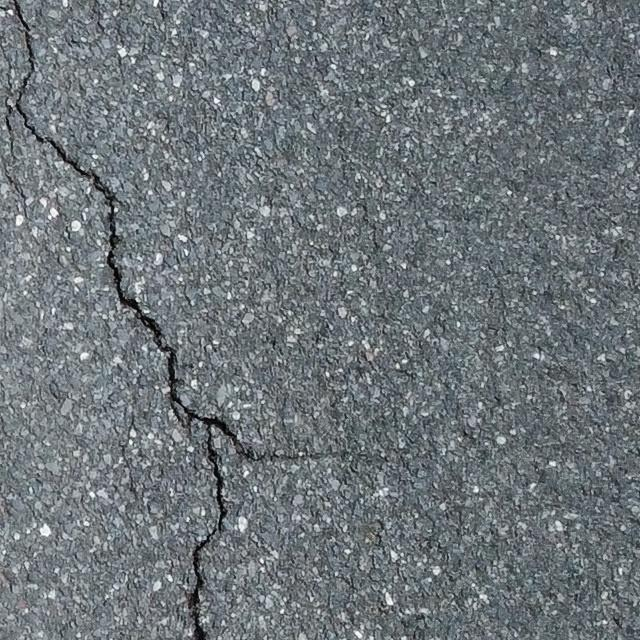LongitudinalCrack: (13, 3, 255, 640)
